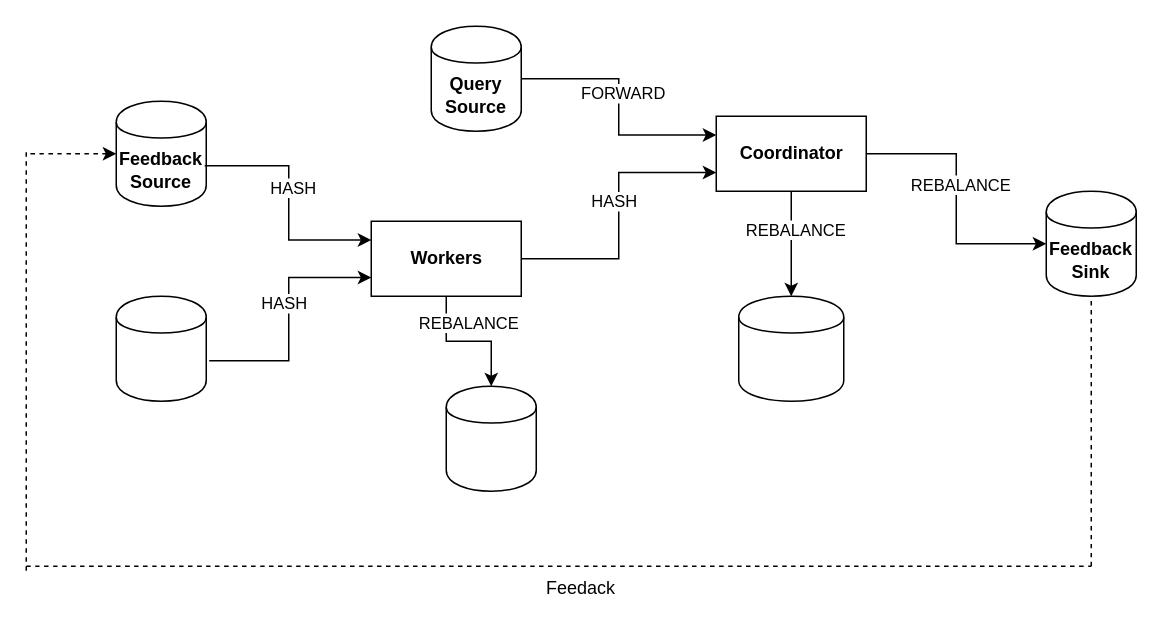
The diagram is 1163 pixels wide and 638 high, and some of its shapes have lost their labels. Each missing label, with the box of its shape:
Coordinator Statistics: (737, 295, 844, 401)
Input Source: (115, 295, 206, 401)
Worker Statistics: (445, 385, 536, 491)
